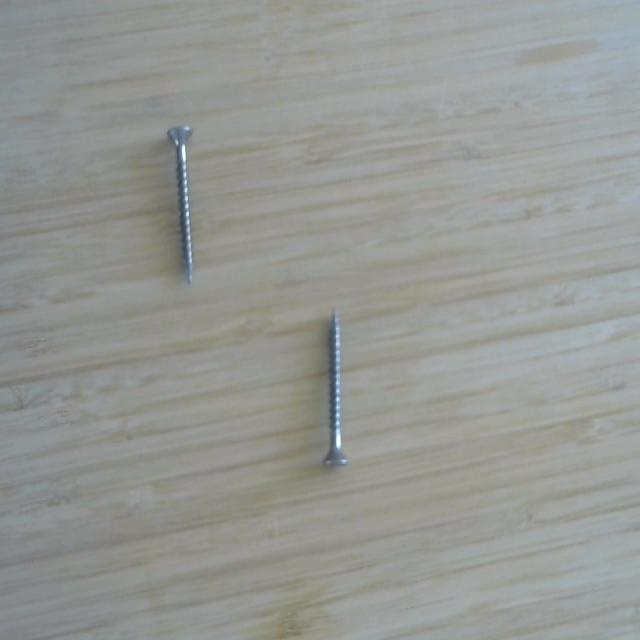Black screw: (166, 115, 208, 286), (317, 300, 353, 474)
